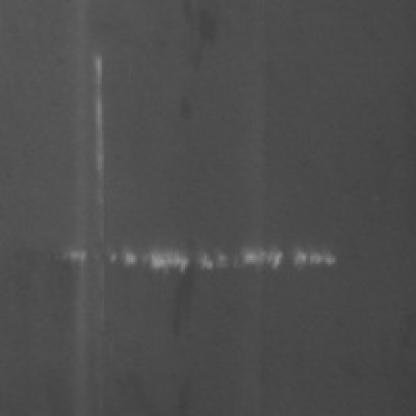scratches: (85, 46, 121, 264), (65, 247, 341, 274)
